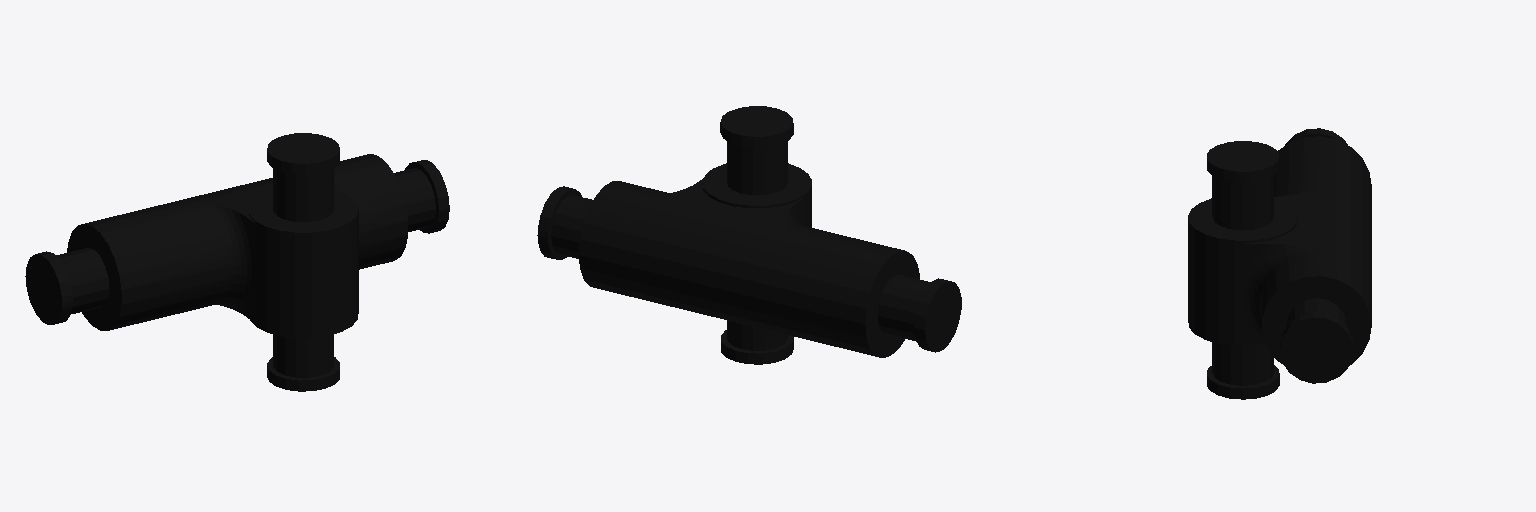
The model's file is Ankle_cross_right.obj.
The picture shows the model from 3 angles: view 1: azimuth 30°, elevation 25°; view 2: azimuth 150°, elevation 25°; view 3: azimuth 270°, elevation 25°; orthographic projection.
Parts seen in each view (by area): view 1: Ankle_Cross_Right; view 2: Ankle_Cross_Right; view 3: Ankle_Cross_Right.
Part boxes in pixels (bbox=[...]): Ankle_Cross_Right: bbox=[25, 133, 449, 391]; Ankle_Cross_Right: bbox=[537, 106, 961, 364]; Ankle_Cross_Right: bbox=[1188, 128, 1371, 399].
Size of the model in its own units: 0.073 by 0.041 by 0.03.